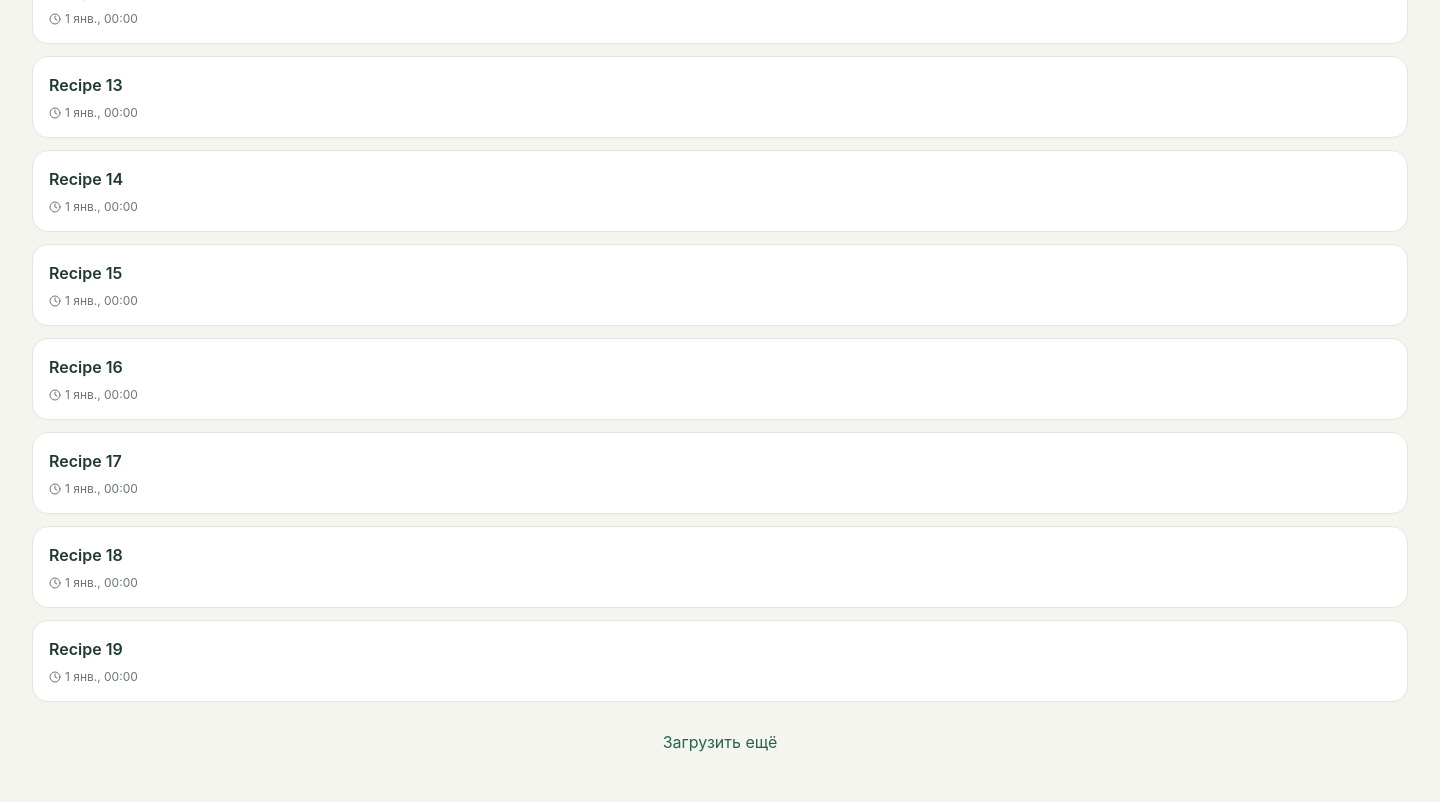
loads older history pages
(page scrolled)
Click the button "Загрузить ещё".
click(720, 742)  # box [32,718,1408,766]
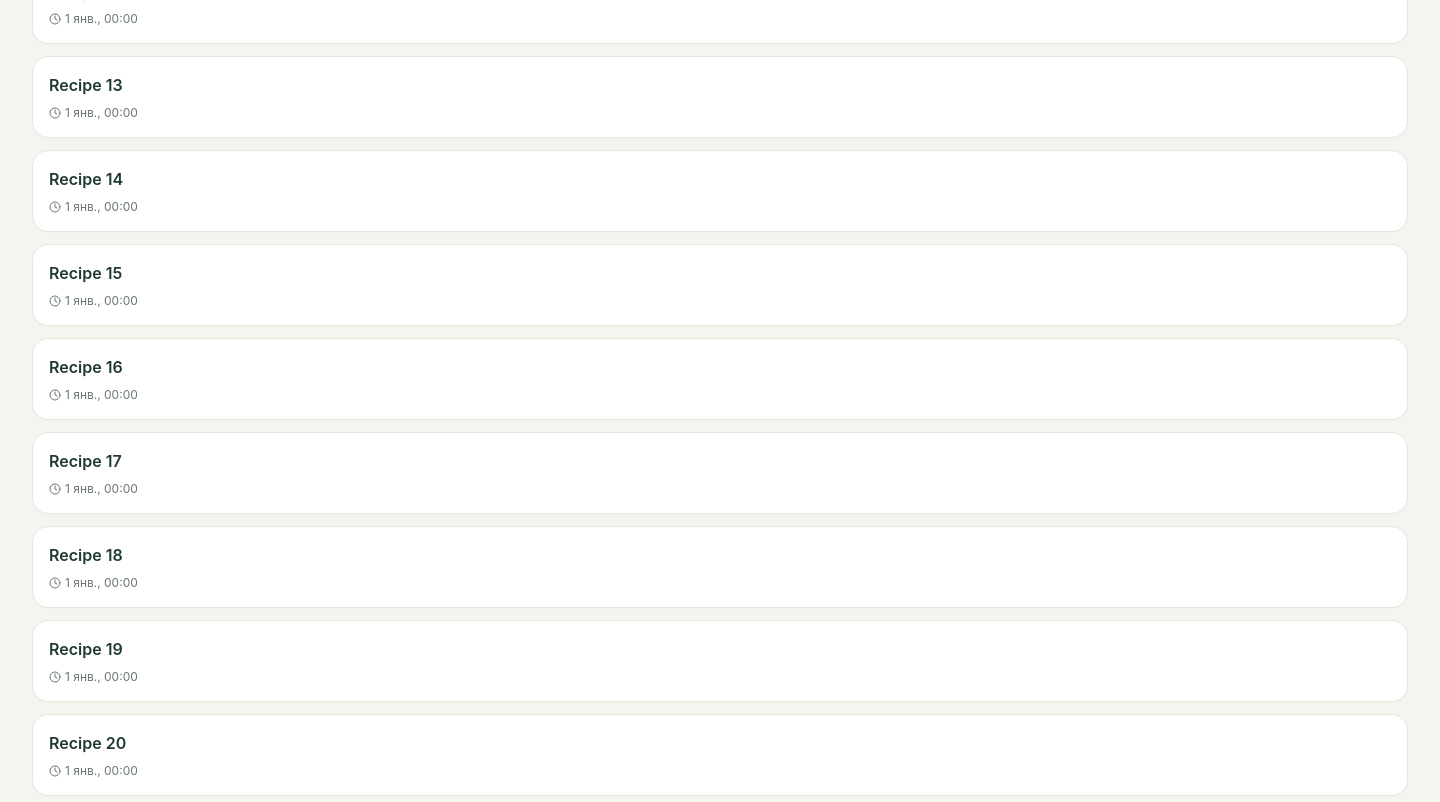
Check: the heading "Recipe 20" is shown, box [49,733,126,753]
